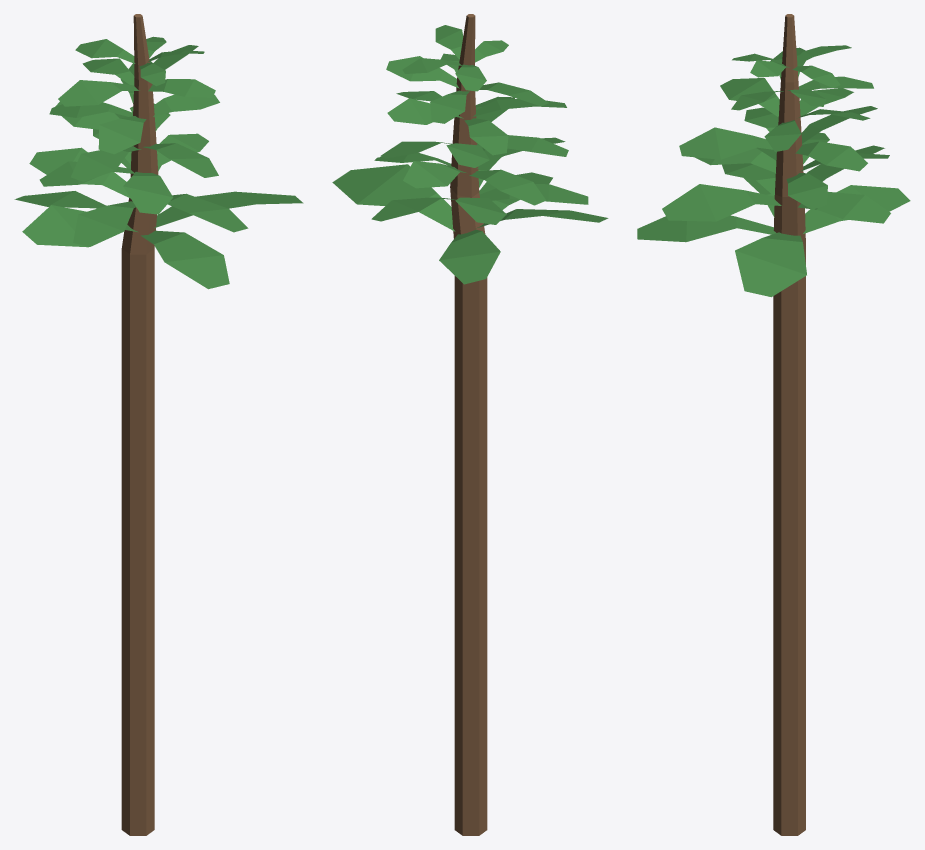
The model's file is tree.glb.
3 views of the same model, side by side, from view 1: azimuth 30°, elevation 25°; view 2: azimuth 150°, elevation 25°; view 3: azimuth 270°, elevation 25° (orthographic).
Visible parts, largest first — view 1: Cylinder; view 2: Cylinder; view 3: Cylinder.
Part boxes in pixels (x1,y1,x2,y2): Cylinder: [14, 14, 303, 835]; Cylinder: [332, 14, 608, 835]; Cylinder: [637, 14, 910, 835].
Size of the model in its own units: 4.17 by 12.01 by 3.66.
Materials: 1 (1 with a texture image).
